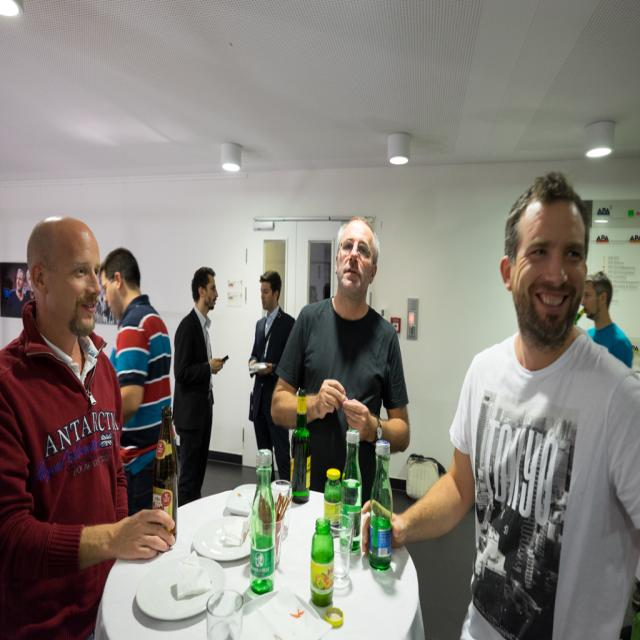Bottle: (244, 446, 281, 596), (154, 411, 178, 541), (306, 519, 342, 604), (368, 440, 394, 548), (289, 389, 312, 505), (342, 428, 364, 544), (320, 465, 345, 532)
